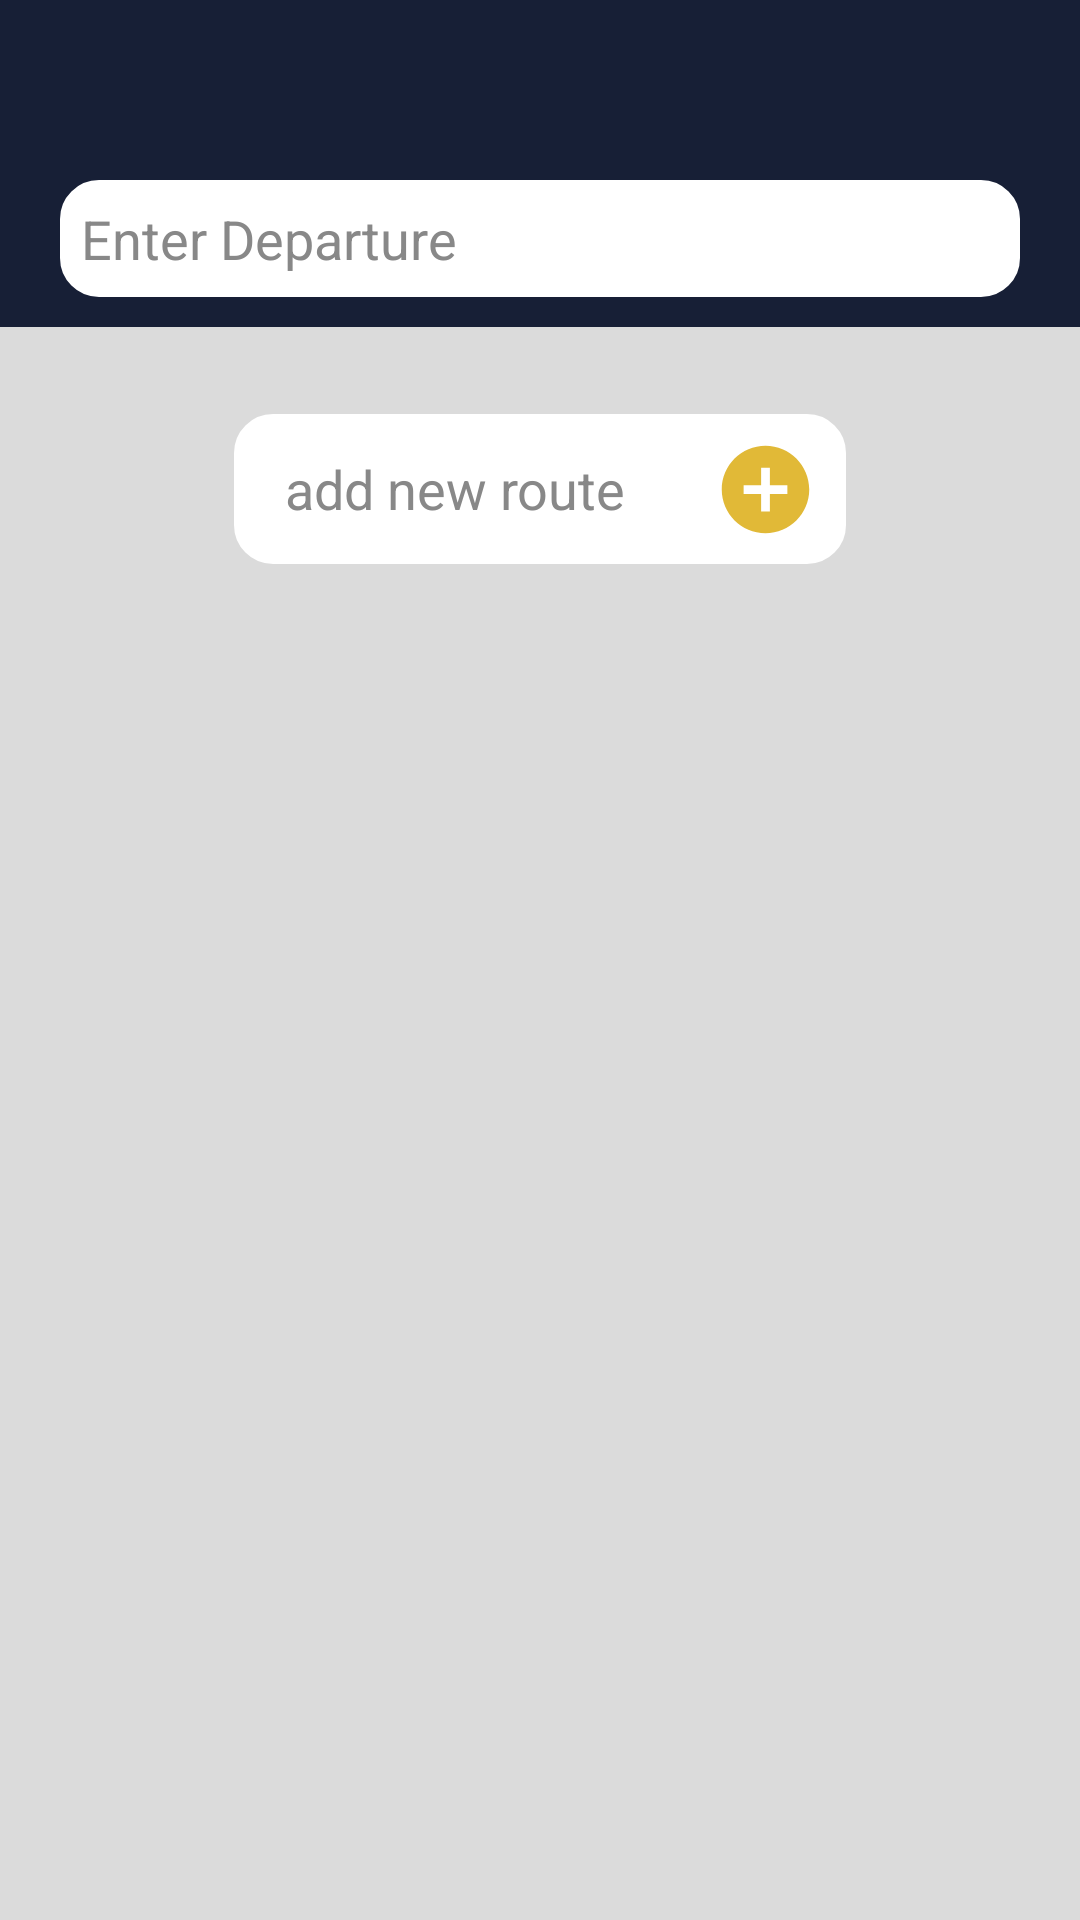

Where to tap for icons on this 1080px x 1920px app screen, as (x,y):
add circle: (765,489)
